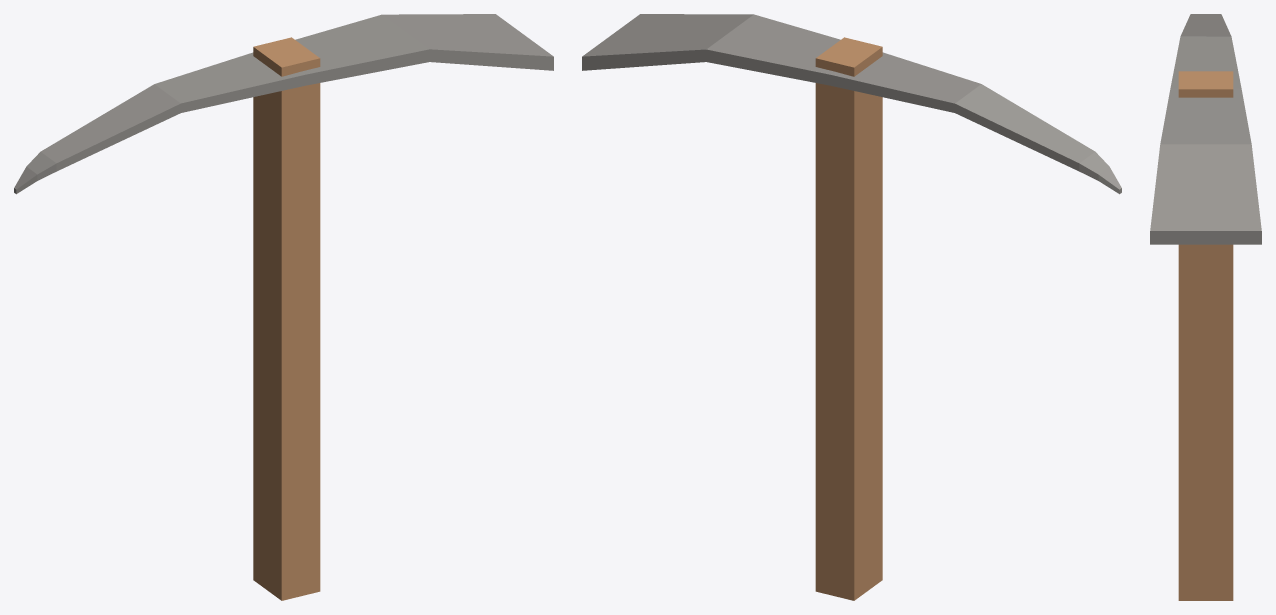
File: pickaxe.fbx
3 views of the same model, side by side, from view 1: azimuth 30°, elevation 25°; view 2: azimuth 150°, elevation 25°; view 3: azimuth 270°, elevation 25° (orthographic). The views are drawn at different scales.
Parts seen in each view (by area): view 1: pickaxe; view 2: pickaxe; view 3: pickaxe.
Boxes of the visible parts, <box> form: pickaxe: <box>14,14,553,600</box>; pickaxe: <box>582,14,1121,600</box>; pickaxe: <box>1150,14,1261,600</box>.
Size of the model in its own units: 94.48 by 94.48 by 18.7.
